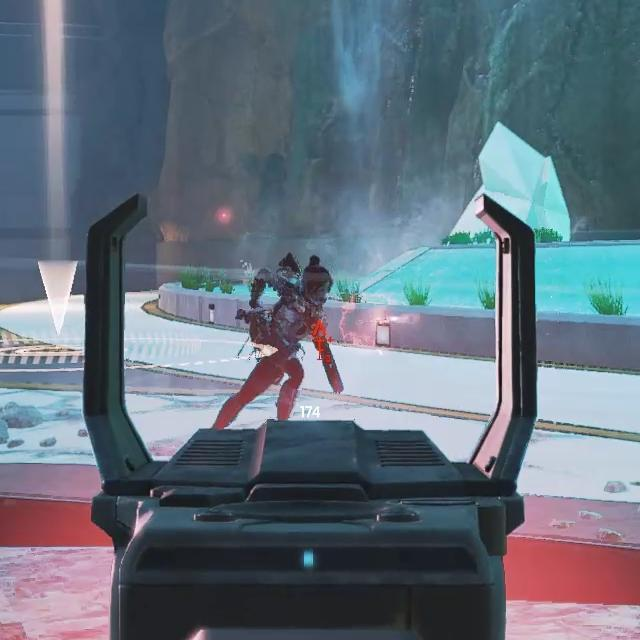avatar: (244, 254, 335, 422)
